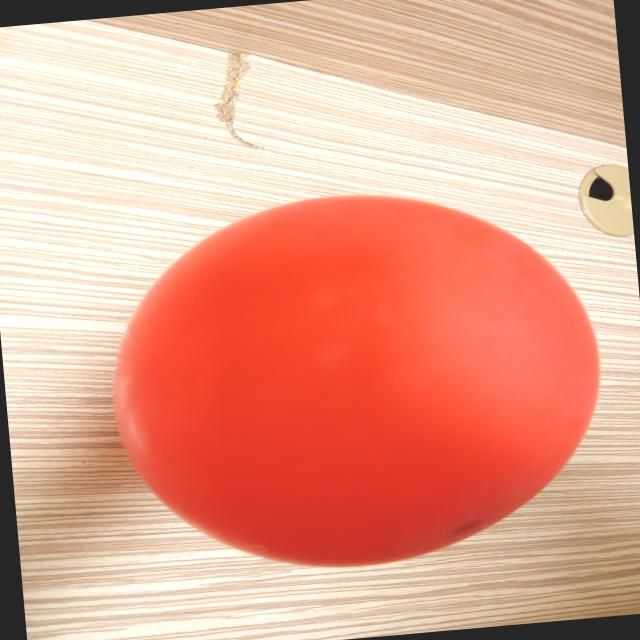balloon: (113, 195, 599, 566)
